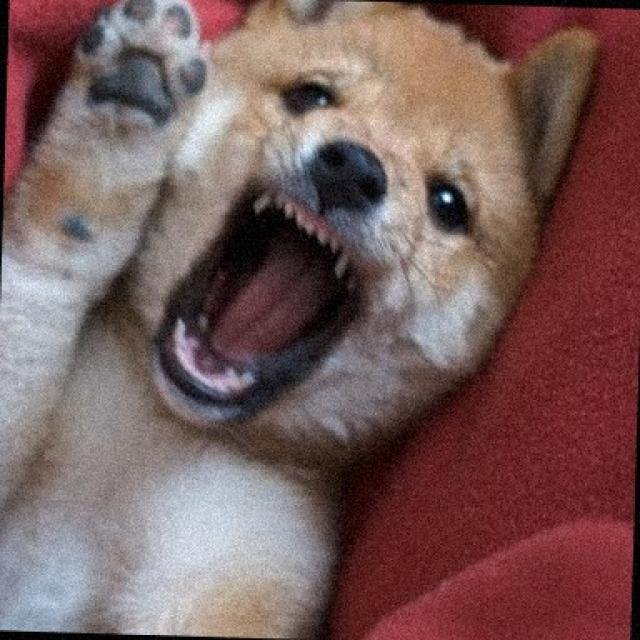angry: (121, 6, 598, 454)
